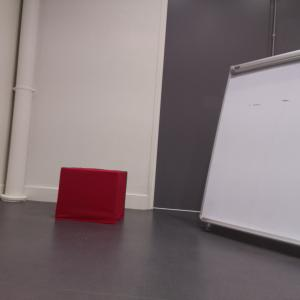medium: (54, 166, 128, 224)
